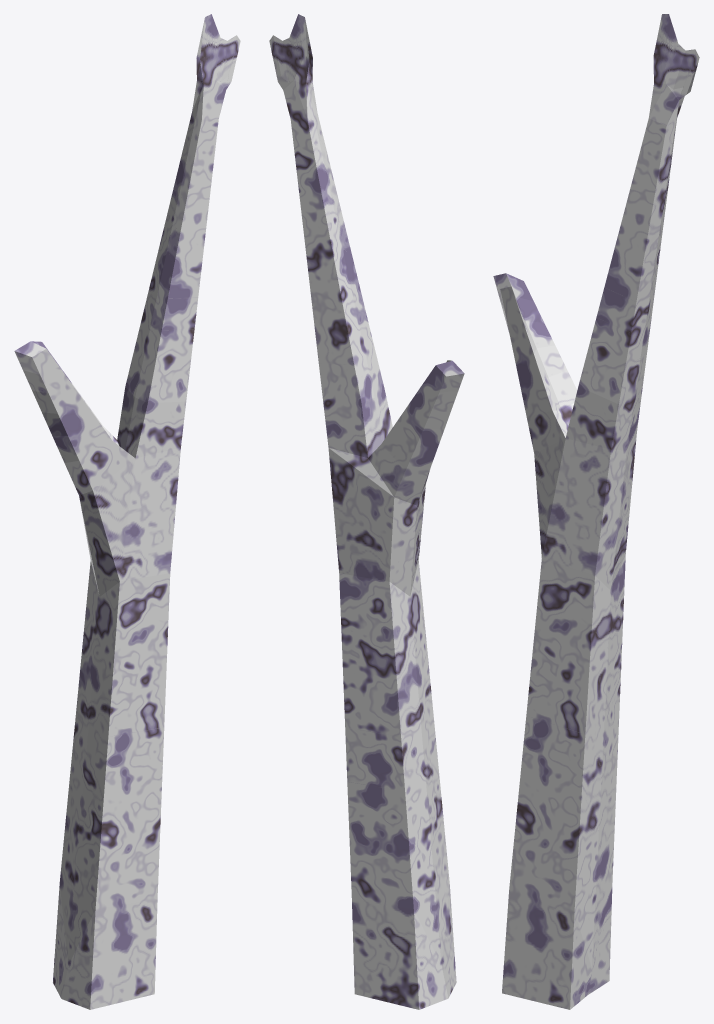
Rendered from branch-coral.glb.
The picture shows the model from 3 angles, left to right: view 1: azimuth 30°, elevation 25°; view 2: azimuth 150°, elevation 25°; view 3: azimuth 330°, elevation 25°; orthographic projection. The views are drawn at different scales.
Visible parts, largest first — view 1: Plane; view 2: Plane; view 3: Plane.
Boxes of the visible parts, x1,y1,x2,y2 form: Plane: [14, 14, 240, 1009]; Plane: [269, 14, 464, 1009]; Plane: [493, 14, 699, 1009].
Bounding box in the file's own units: 0.192 × 0.8249 × 0.0589.
1 material, 1 textured.
